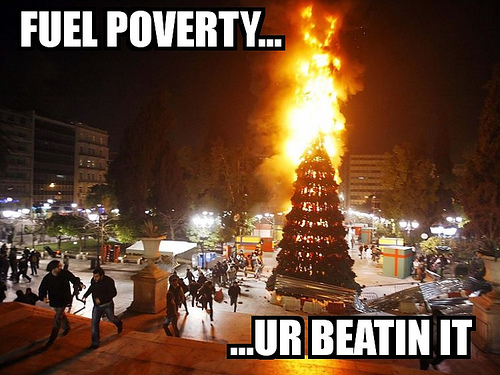fire: (267, 12, 353, 190)
